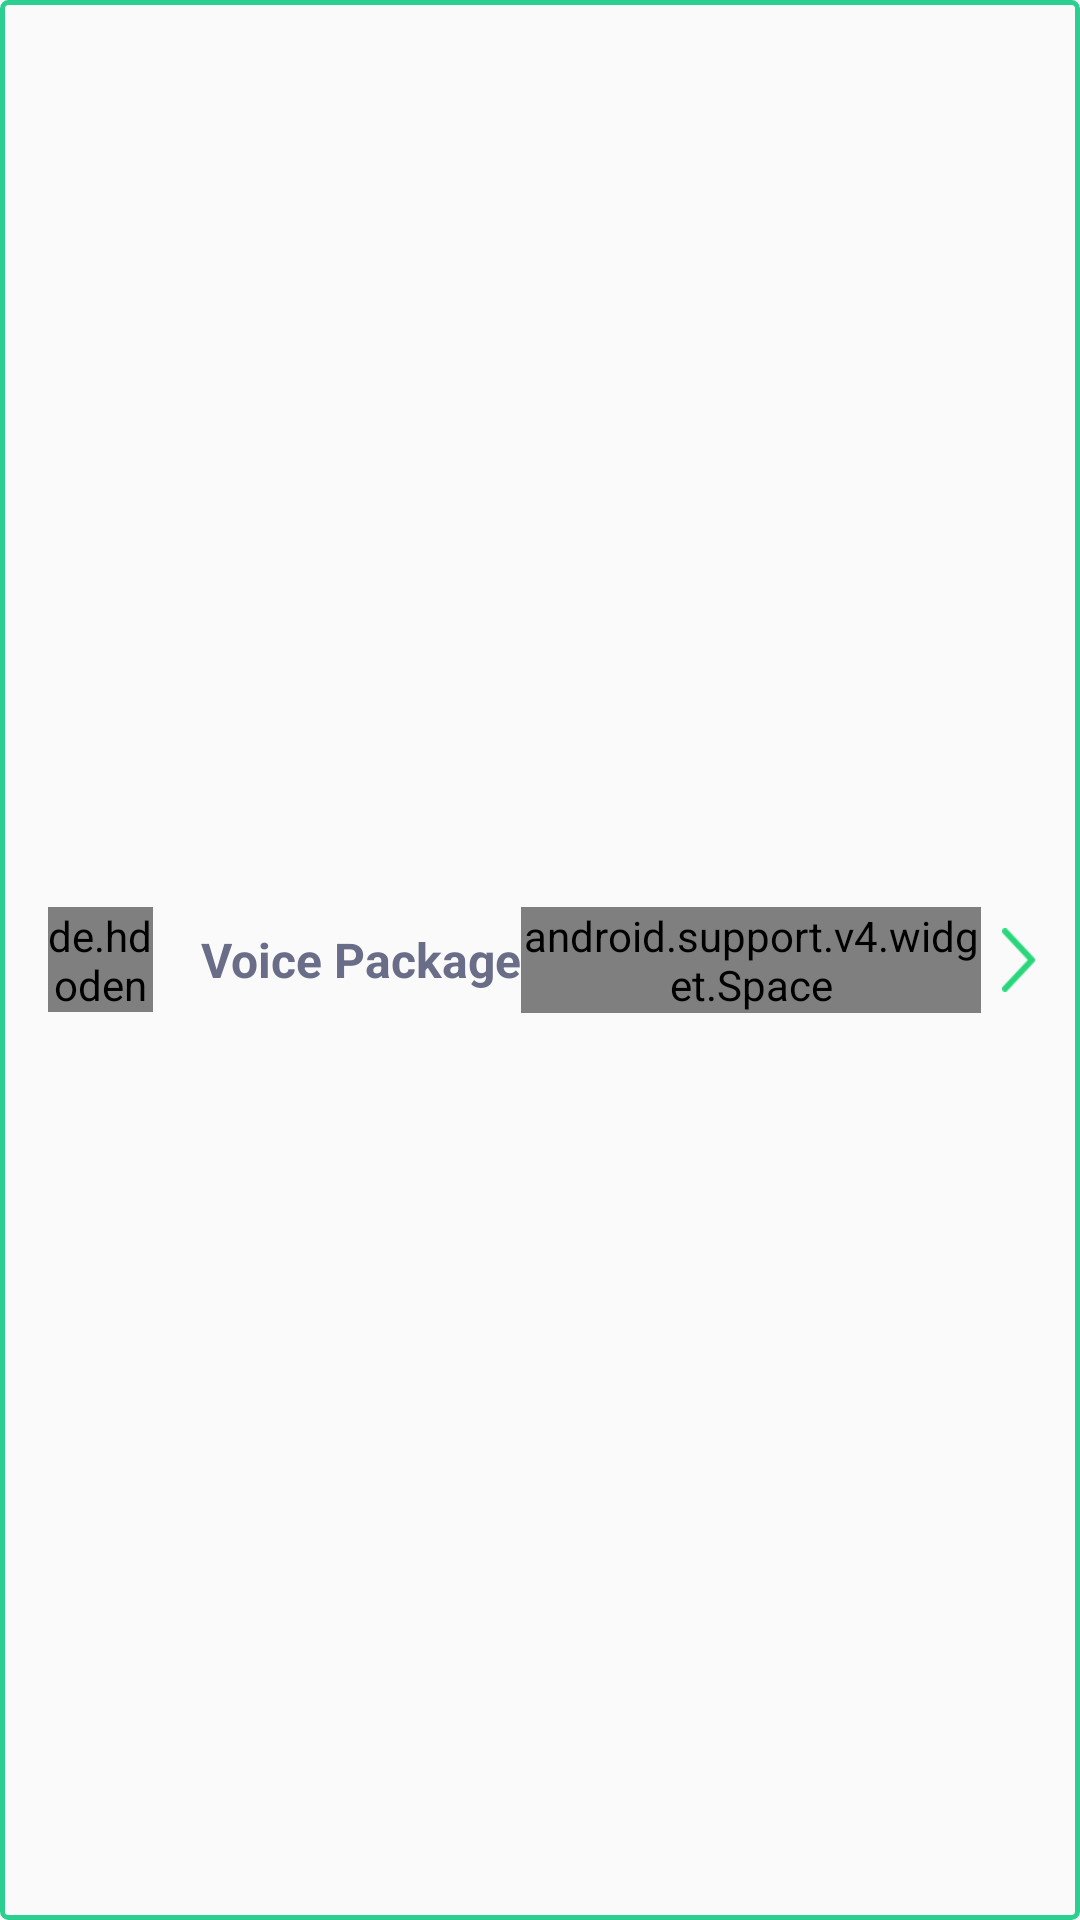

Where to tap for icons on this 1080w x 1920h app screen, as (x=x, y=y):
arrow: (x=1018, y=960)
